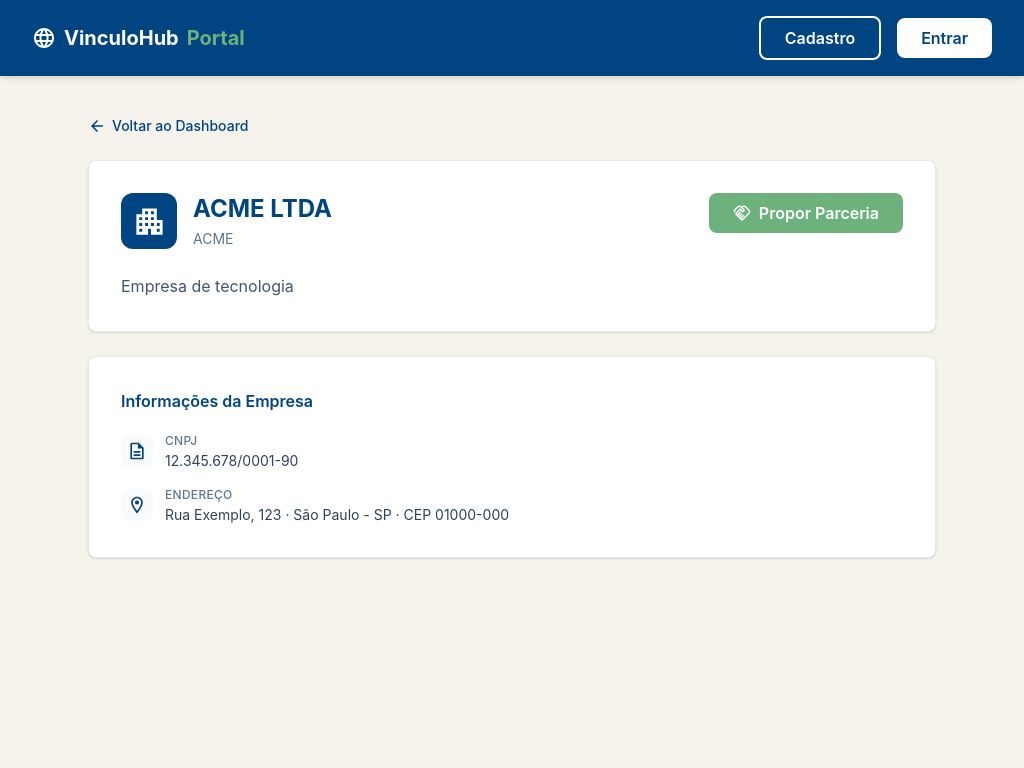
Test: CompanyPublicProfilePage › Propor Parceria — viewer NPO › filtra projetos com vínculo existente para aquela empresa
The width and height of the screenshot is (1024, 768).
Click the button "Propor Parceria" at (806, 213), box top-left (709, 193), bottom-right (903, 233)
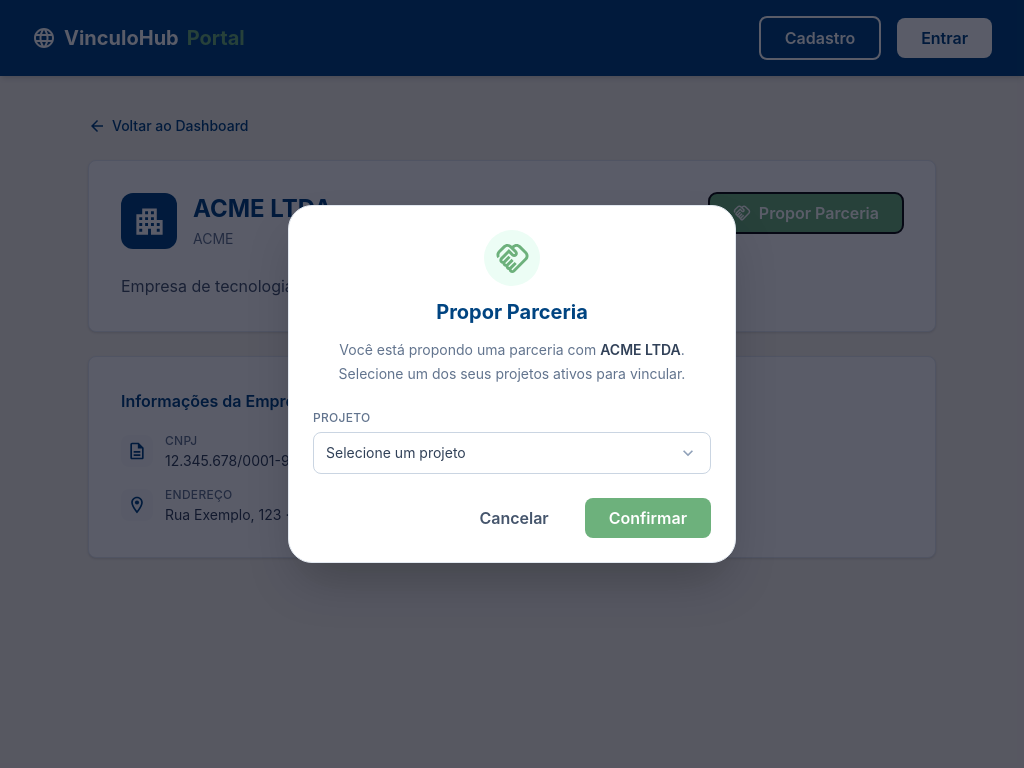
Click the dropdown labelled "Selecione um projeto" at (396, 452), box top-left (313, 432), bottom-right (711, 474)
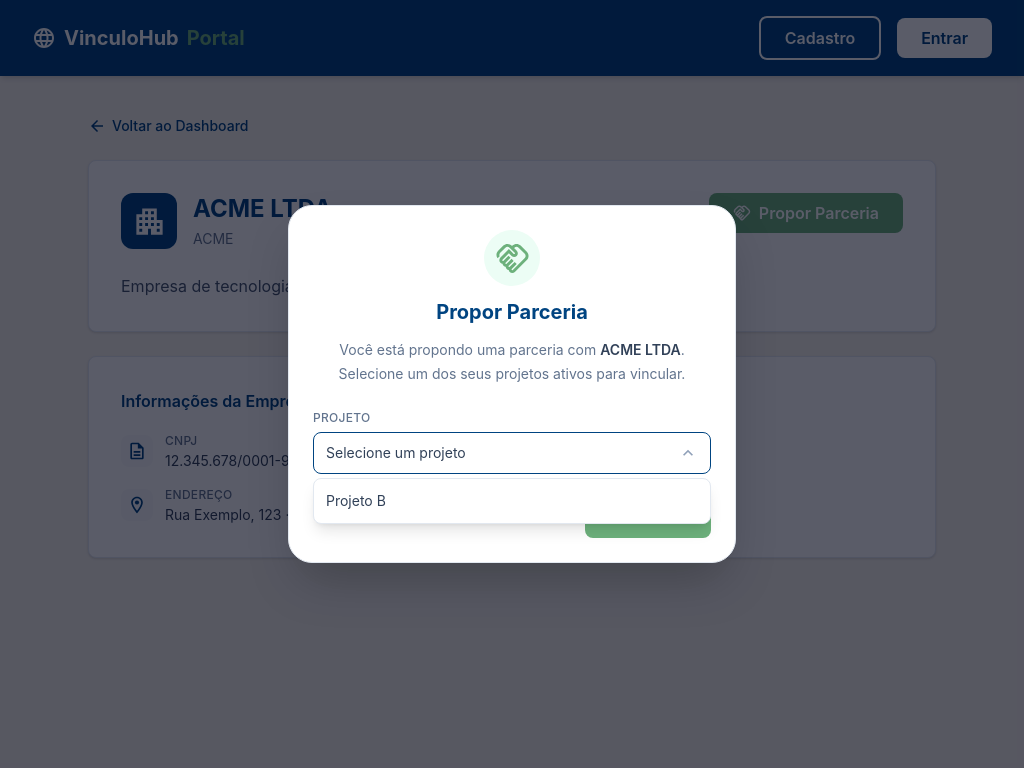
Expected: the option "Projeto B" is shown, top-left (326, 492), bottom-right (386, 509)
